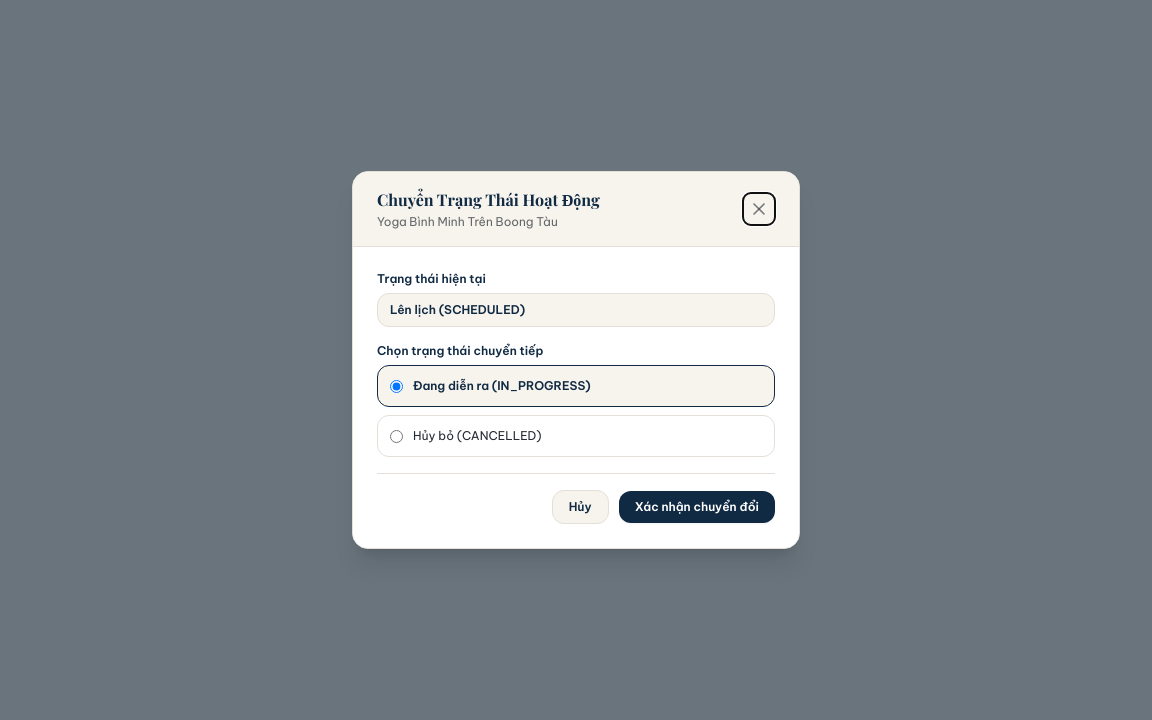
Test: ActivityStatusModal Component Tests (KAN-141) › validates cancellation reason when selecting CANCELLED status
// Select CANCELLED radio option
Click the radio button labelled "Hủy bỏ (CANCELLED)" at [396, 436], box [390, 430, 403, 442]
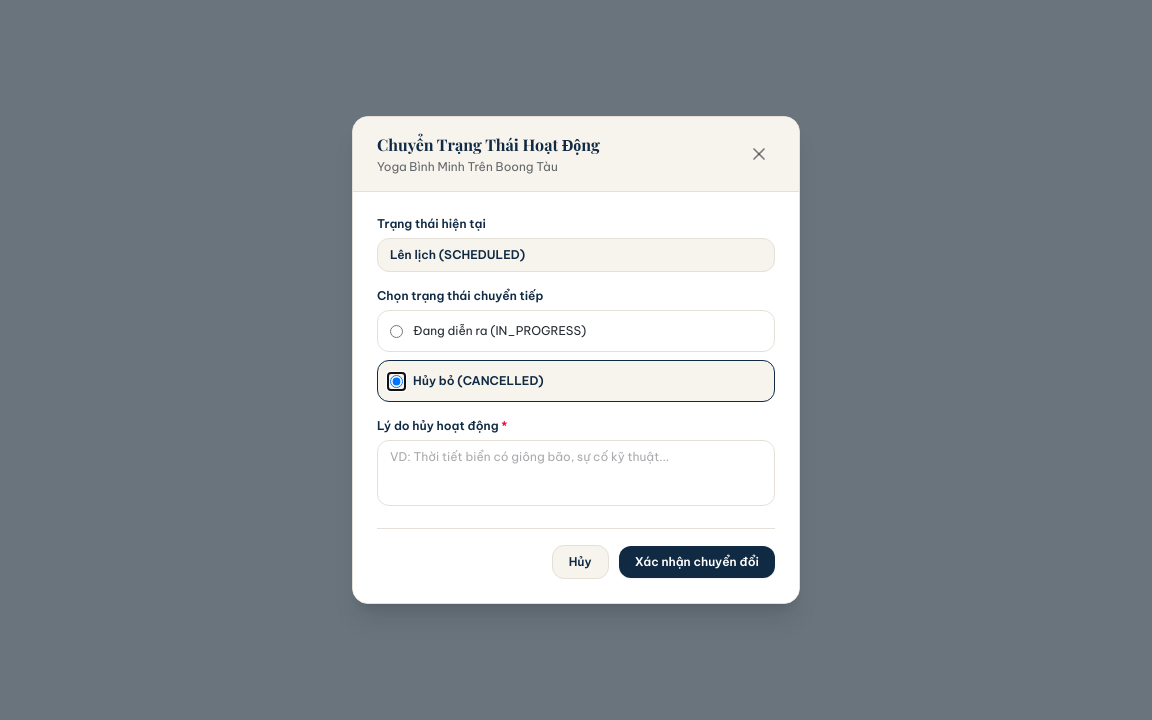
Result: the text box labelled "Lý do hủy hoạt động *" is shown at [377, 440, 775, 506]
// Click submit with empty reason
Click the button "Xác nhận chuyển đổi" at [697, 562], box [619, 546, 775, 578]
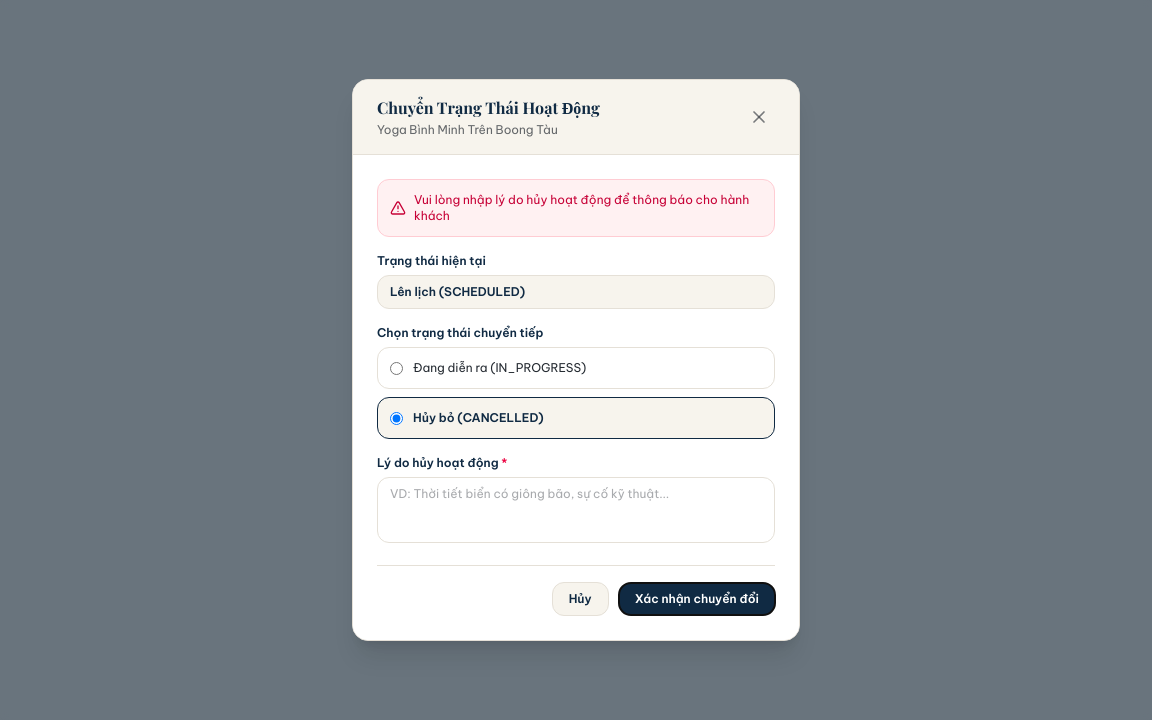
Result: the text "Vui lòng nhập lý do hủy hoạt động để thông báo cho hành khách" is shown at [414, 192, 762, 224]
